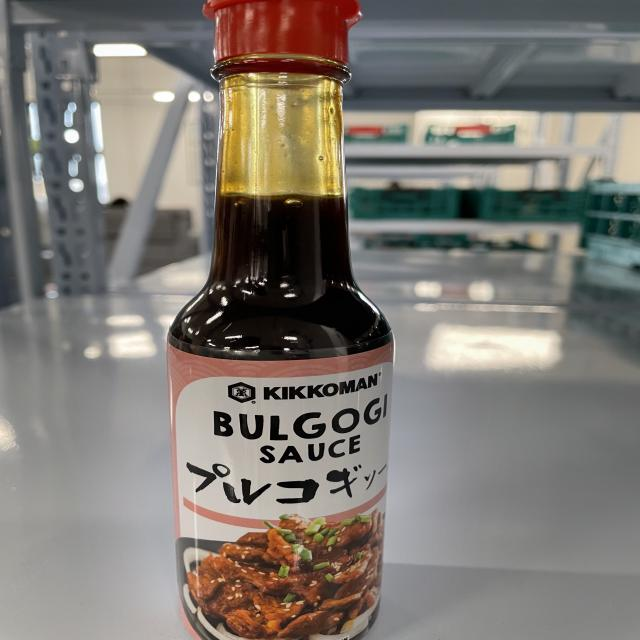object_name: (199, 3, 379, 638)
